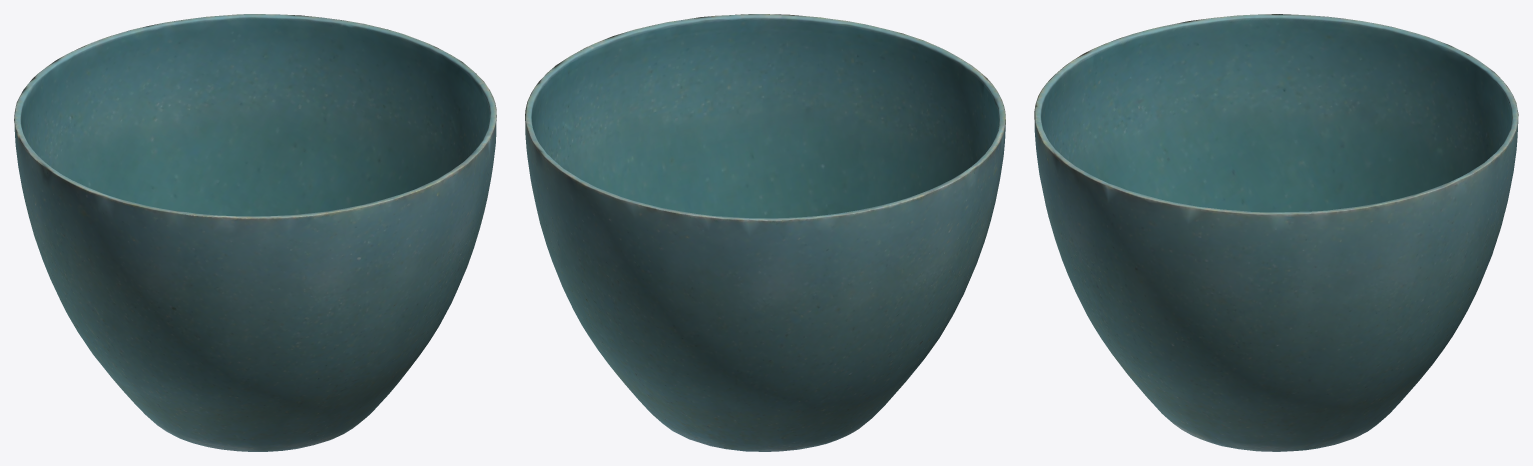
The model's file is Ecoforms_Plant_Bowl_Turquoise_7.glb.
3 views of the same model, side by side, from view 1: azimuth 30°, elevation 25°; view 2: azimuth 150°, elevation 25°; view 3: azimuth 270°, elevation 25° (orthographic).
Visible parts, largest first — view 1: Ecoforms_Plant_Bowl_Turquoise_7; view 2: Ecoforms_Plant_Bowl_Turquoise_7; view 3: Ecoforms_Plant_Bowl_Turquoise_7.
Boxes of the visible parts, x1,y1,x2,y2 form: Ecoforms_Plant_Bowl_Turquoise_7: (14, 14, 496, 451); Ecoforms_Plant_Bowl_Turquoise_7: (525, 14, 1005, 451); Ecoforms_Plant_Bowl_Turquoise_7: (1034, 14, 1518, 451).
Bounding box in the file's own units: 0.1816 × 0.1226 × 0.182.
1 material, 1 textured.
